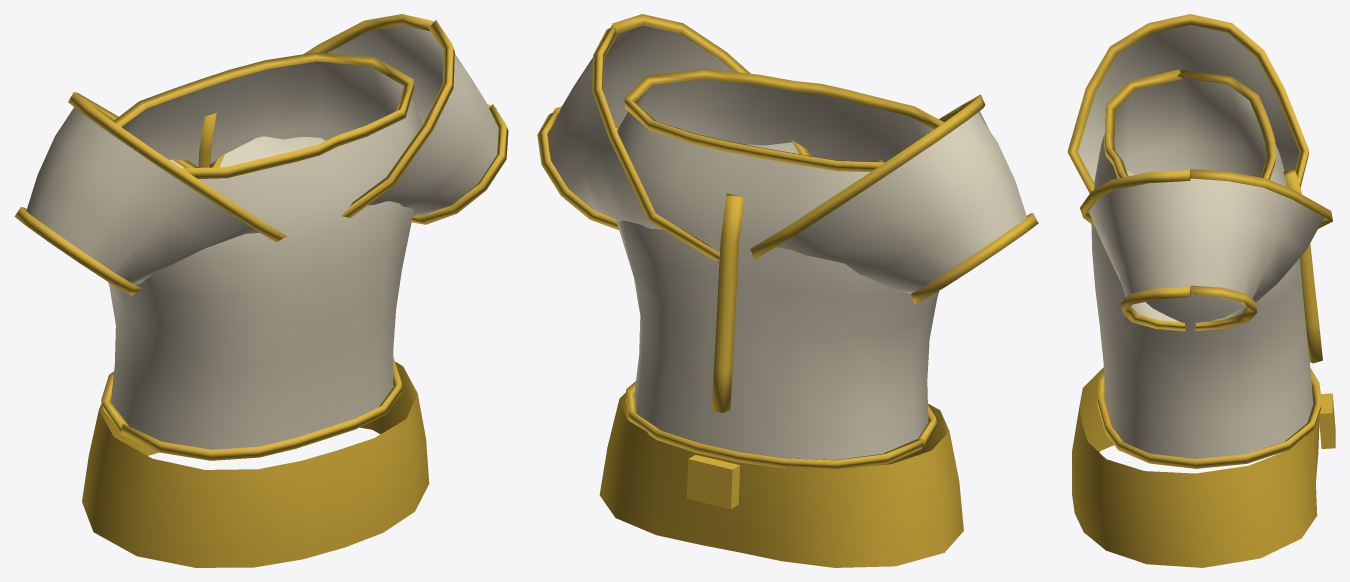
Rendered from hallowed_plate_mail.glb.
3 renders of one model, left to right at view 1: azimuth 30°, elevation 25°; view 2: azimuth 150°, elevation 25°; view 3: azimuth 270°, elevation 25°, orthographic. The views are drawn at different scales.
Parts seen in each view (by area): view 1: hallowed_plate_mail_chest; view 2: hallowed_plate_mail_chest; view 3: hallowed_plate_mail_chest.
Boxes of the visible parts, x1,y1,x2,y2 form: hallowed_plate_mail_chest: [14, 14, 508, 567]; hallowed_plate_mail_chest: [537, 14, 1038, 567]; hallowed_plate_mail_chest: [1067, 14, 1335, 567].
Bounding box in the file's own units: 0.6477 × 0.5848 × 0.3444.
